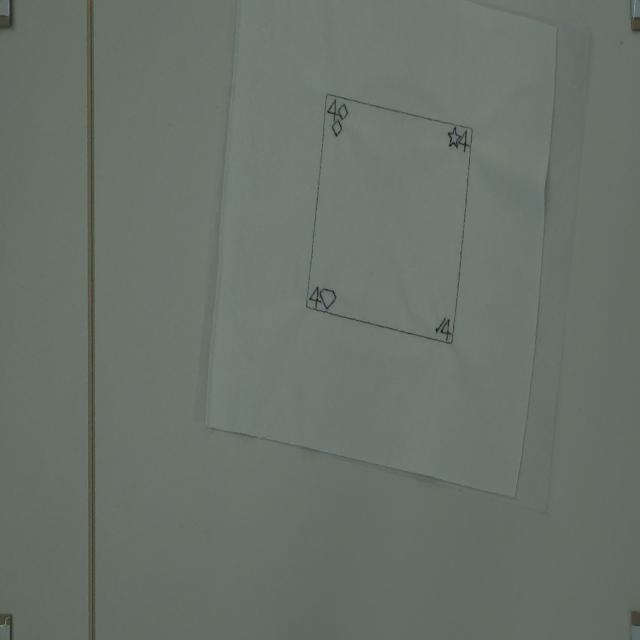4 -: (308, 284, 322, 310), (438, 316, 452, 342), (328, 98, 340, 125), (460, 127, 470, 158)
